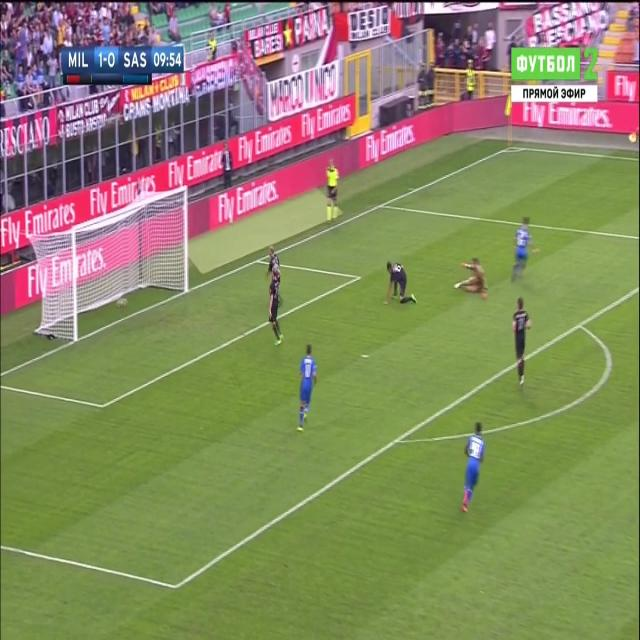Ball: (114, 294, 129, 311)
Goalkeeper: (454, 253, 492, 302)
Player: (459, 421, 486, 518), (508, 213, 543, 286), (296, 342, 319, 437), (511, 298, 533, 390), (266, 263, 287, 350), (382, 259, 419, 308)
Referee: (323, 153, 341, 232)
